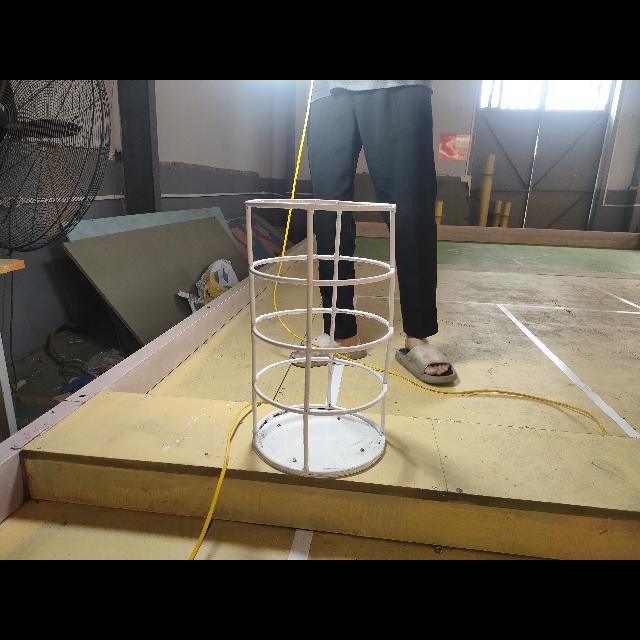S: (240, 196, 400, 482)
